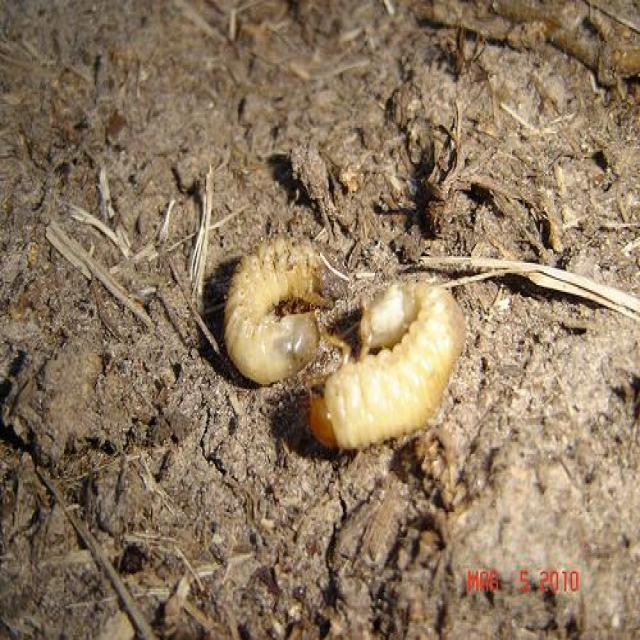Grub-Adult-: (311, 269, 462, 478), (222, 223, 326, 407)
